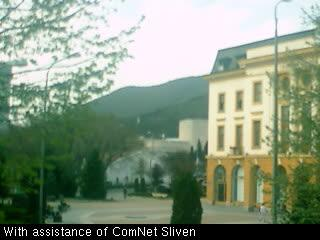person: (258, 203, 268, 222), (122, 186, 127, 200)
